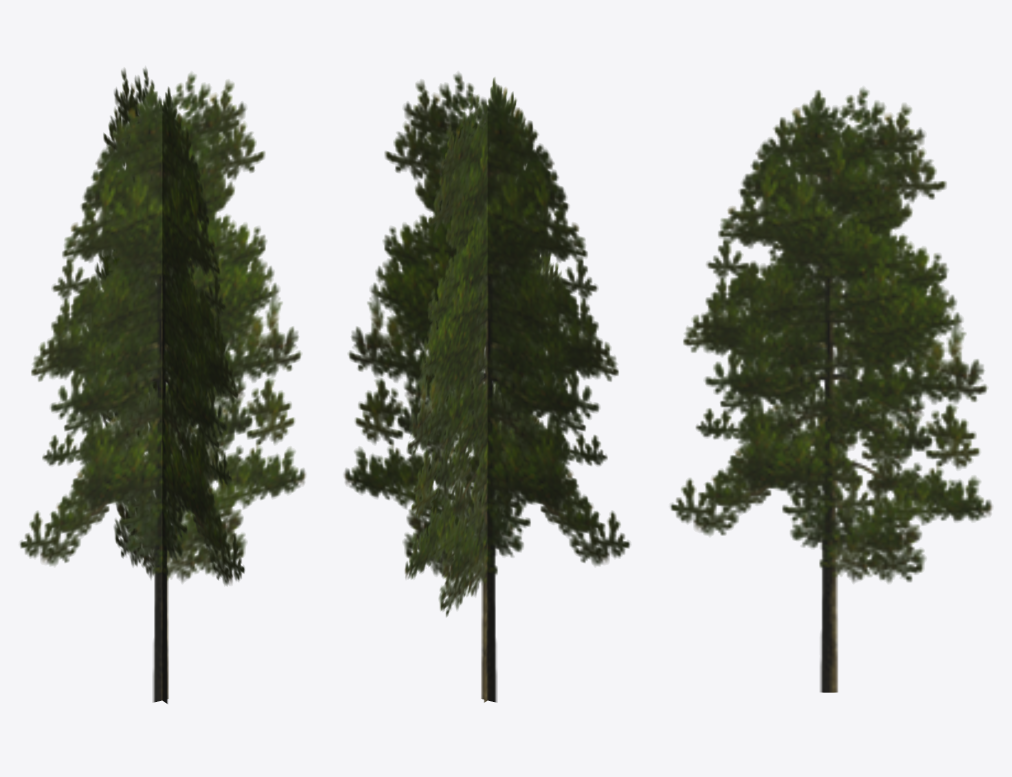
Rendered from tree.glb.
The picture shows the model from 3 angles, left to right: view 1: azimuth 30°, elevation 25°; view 2: azimuth 150°, elevation 25°; view 3: azimuth 270°, elevation 25°; orthographic projection. The views are drawn at different scales.
Parts seen in each view (by area): view 1: SM_California_Incense_Cedar; view 2: SM_California_Incense_Cedar; view 3: SM_California_Incense_Cedar.
Part boxes in pixels (box(x1,y1,x2,y2)): SM_California_Incense_Cedar: box(19, 67, 306, 703); SM_California_Incense_Cedar: box(343, 72, 630, 702); SM_California_Incense_Cedar: box(670, 87, 992, 692).
Size of the model in its own units: 8.1 by 16.29 by 8.1.
1 material, 1 textured.
